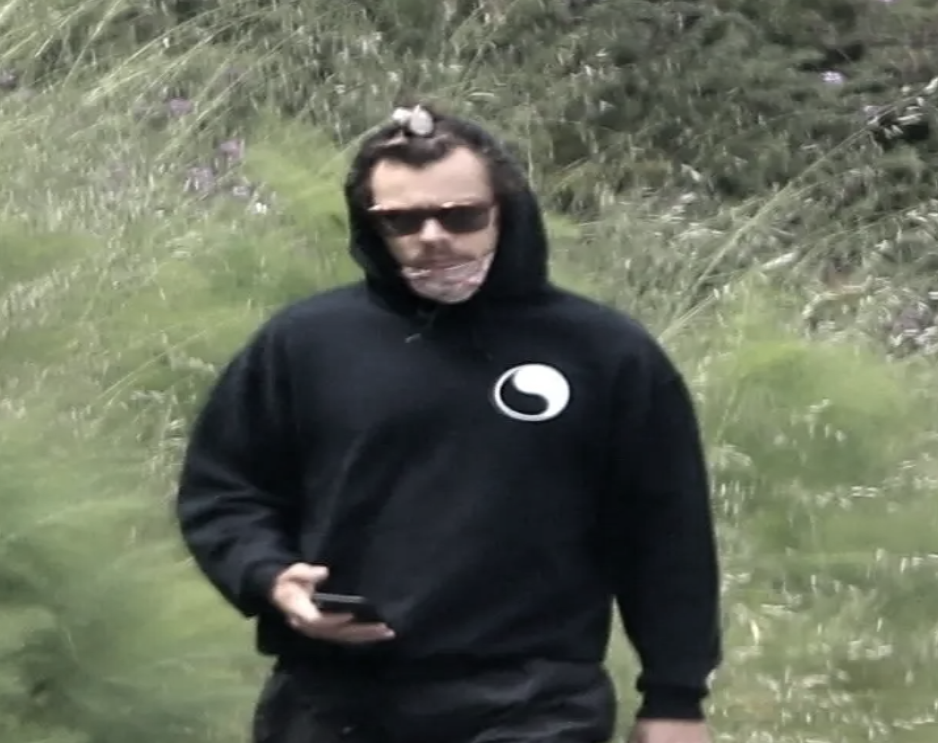mask_weared_incorrect: (345, 126, 525, 312)
